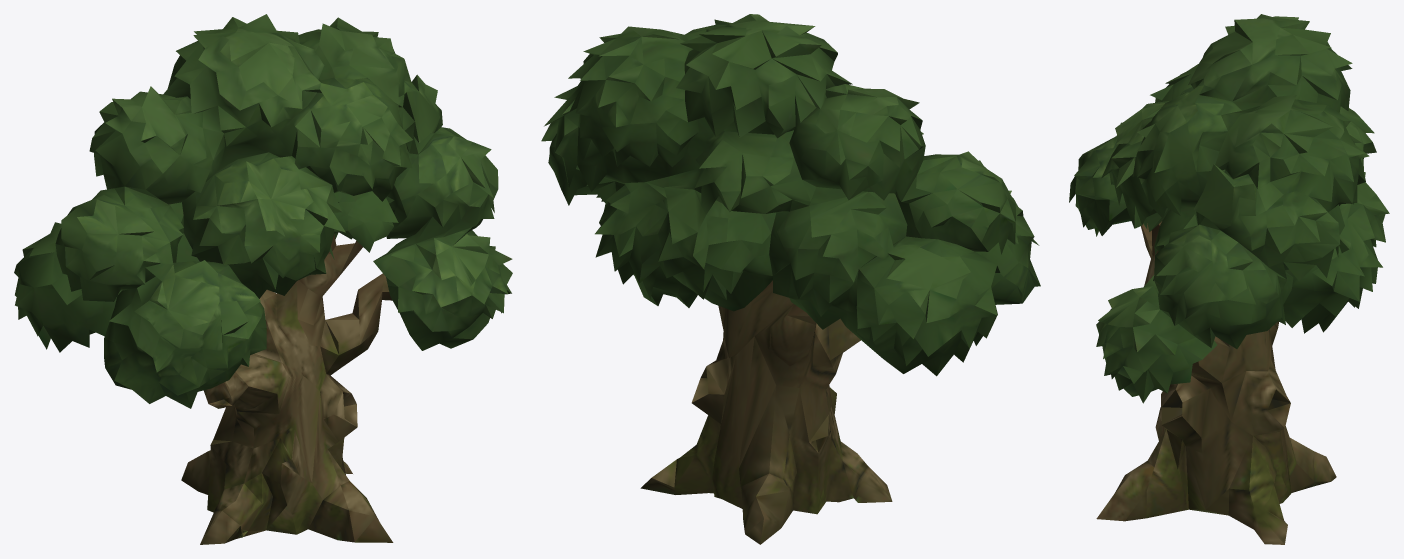
The picture shows the model from 3 angles, left to right: view 1: azimuth 30°, elevation 25°; view 2: azimuth 150°, elevation 25°; view 3: azimuth 270°, elevation 25°; orthographic projection. The views are drawn at different scales.
Visible parts, largest first — view 1: oak; view 2: oak; view 3: oak.
Boxes of the visible parts, box(x1,y1,x2,y2) form: oak: box(14, 14, 512, 544); oak: box(541, 14, 1040, 544); oak: box(1069, 14, 1389, 544).
Size of the model in its own units: 0.9766 by 0.9753 by 0.6068.
Materials: 1 (1 with a texture image).
